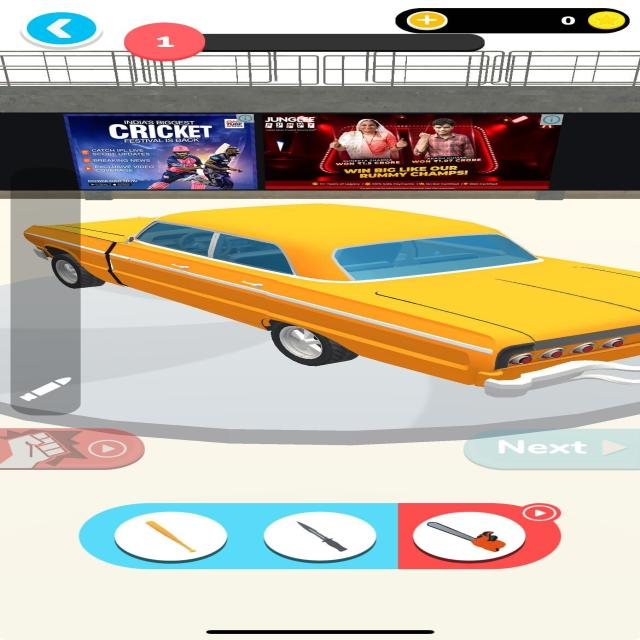billboard: (260, 112, 568, 192), (57, 113, 261, 192)
